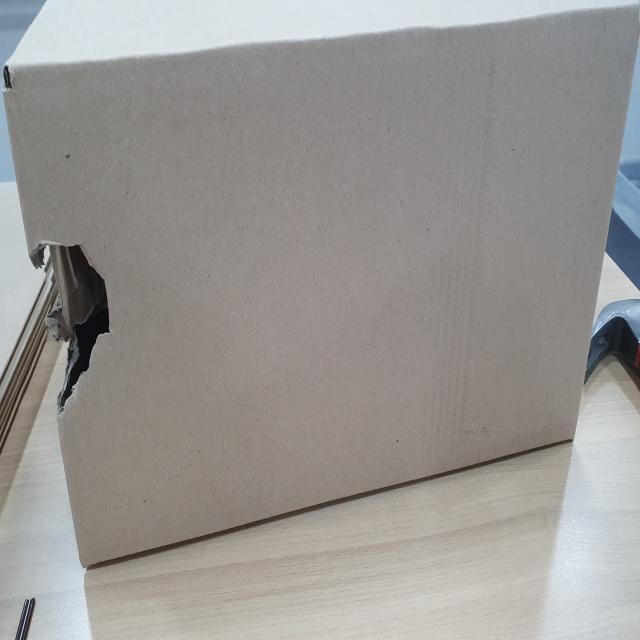hole: (31, 233, 117, 411)
